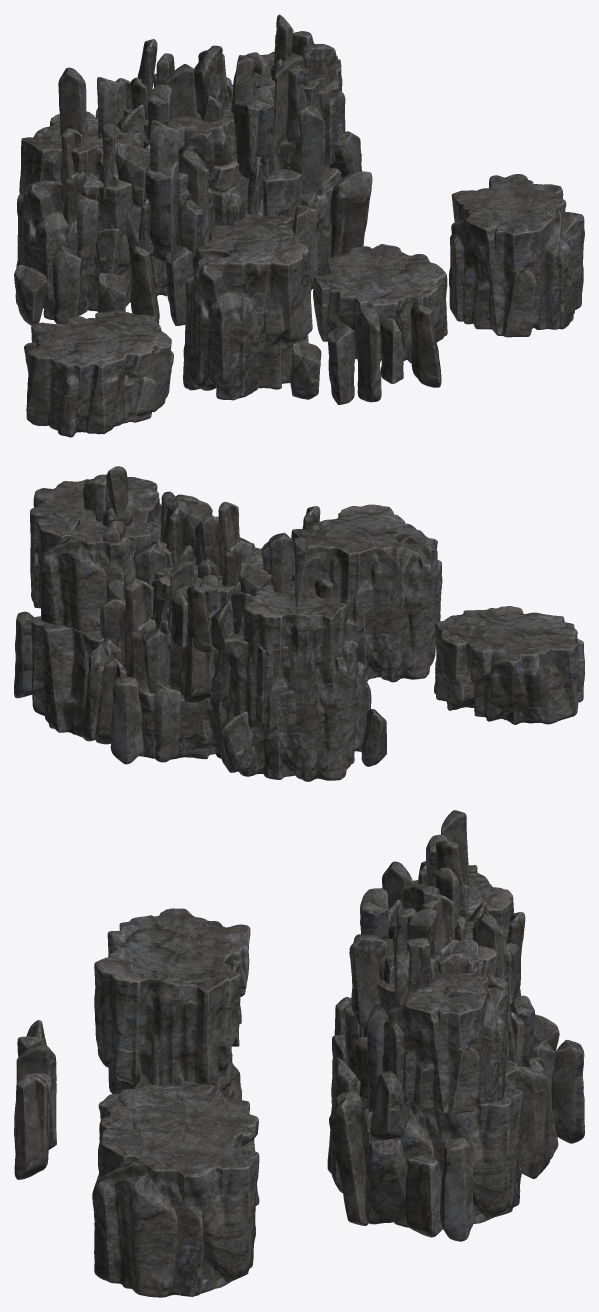
Rendered from rock-sea.glb.
3 renders of one model, top to bottom at view 1: azimuth 30°, elevation 25°; view 2: azimuth 150°, elevation 25°; view 3: azimuth 270°, elevation 25°, orthographic. The views are drawn at different scales.
Visible parts, largest first — view 1: Object003_Rock sea n4_0, Object003_Rock sea n4_0.001, Object003_Rock sea n4_0.002, Object003_Rock sea n4_0.003, Object003_Rock sea n4_0.004; view 2: Object003_Rock sea n4_0.001, Object003_Rock sea n4_0.002, Object003_Rock sea n4_0.003, Object003_Rock sea n4_0, Object003_Rock sea n4_0.004; view 3: Object003_Rock sea n4_0, Object003_Rock sea n4_0.001, Object003_Rock sea n4_0.002, Object003_Rock sea n4_0.003.
Part boxes in pixels (x1,y1,x2,y2): Object003_Rock sea n4_0: (183,174,584,404); Object003_Rock sea n4_0.001: (15,26,447,436); Object003_Rock sea n4_0.002: (14,31,372,325); Object003_Rock sea n4_0.003: (14,14,371,437); Object003_Rock sea n4_0.004: (28,317,170,431); Object003_Rock sea n4_0.001: (14,469,584,781); Object003_Rock sea n4_0.002: (14,474,385,779); Object003_Rock sea n4_0.003: (15,466,583,781); Object003_Rock sea n4_0: (30,477,442,682); Object003_Rock sea n4_0.004: (439,610,584,688); Object003_Rock sea n4_0: (14,928,259,1297); Object003_Rock sea n4_0.001: (98,841,584,1239); Object003_Rock sea n4_0.002: (328,826,559,1233); Object003_Rock sea n4_0.003: (180,810,584,1241).
Size of the model in its own units: 0.9505 by 0.423 by 0.7394.
1 material, 1 textured.
